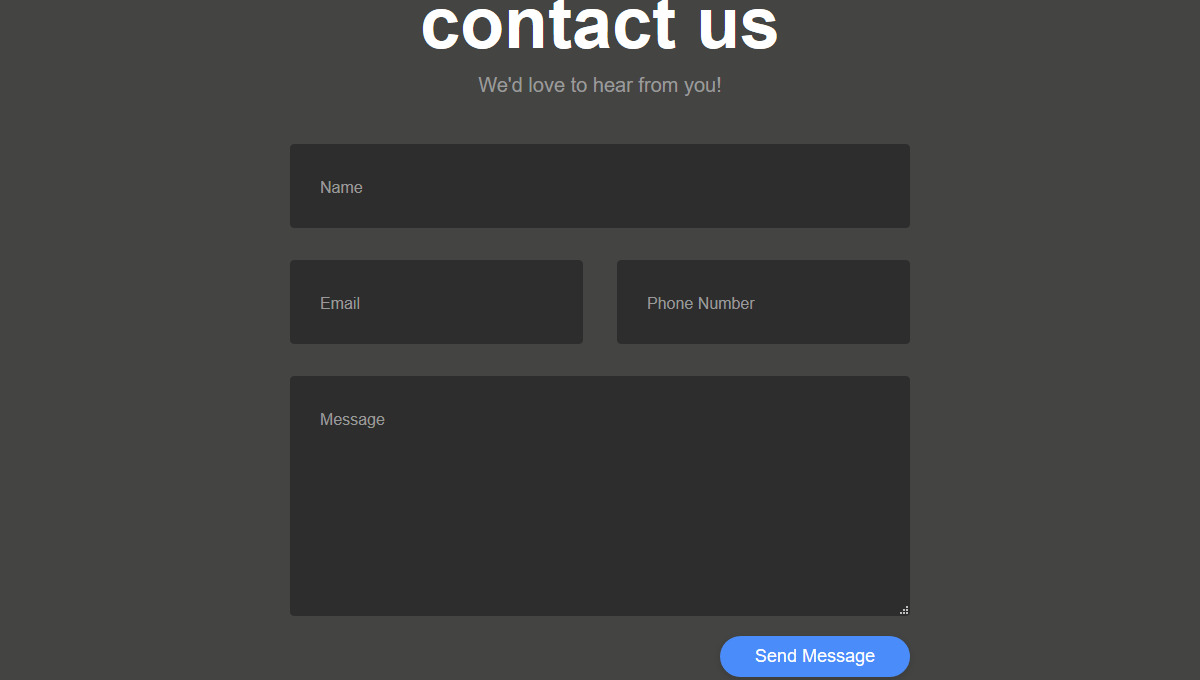_form_: (282, 137, 922, 680)
button: (720, 634, 912, 680)
field: (288, 374, 912, 617), (290, 144, 912, 230), (288, 258, 584, 346), (617, 260, 913, 344)
